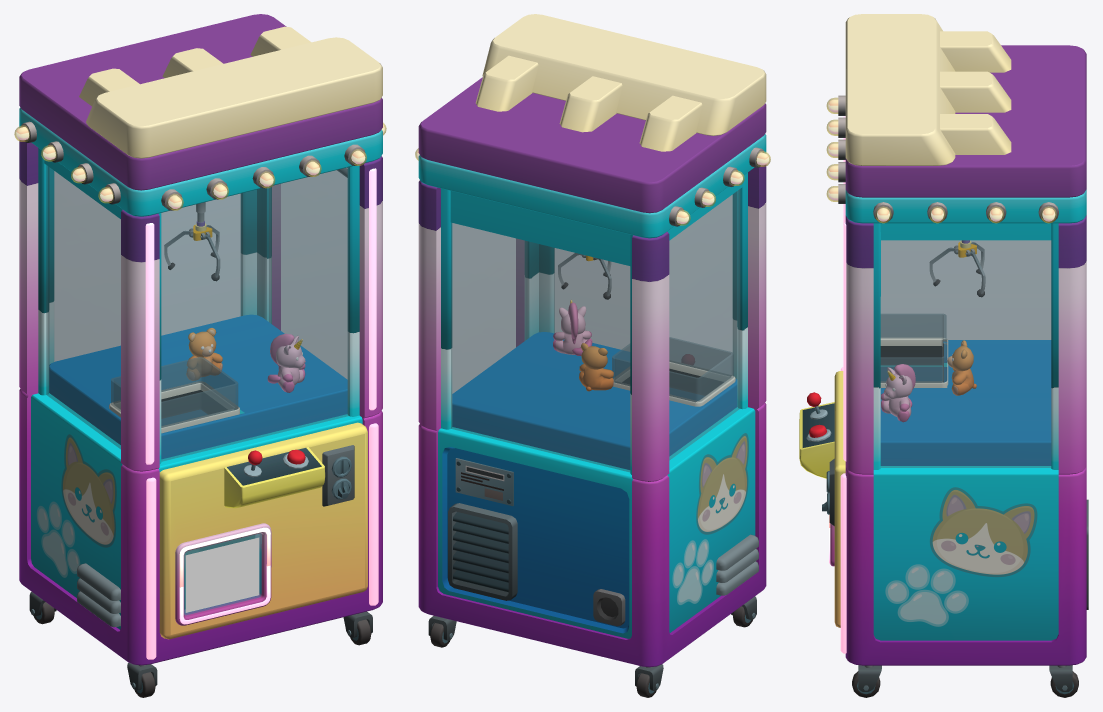
Rendered from Claw_Machine.glb.
3 renders of one model, left to right at view 1: azimuth 30°, elevation 25°; view 2: azimuth 150°, elevation 25°; view 3: azimuth 270°, elevation 25°, orthographic. The views are drawn at different scales.
Visible parts, largest first — view 1: Toy_Claw_01, Cap_01, Lamps_01, Unicorn_01, Bear_01; view 2: Toy_Claw_01, Lamps_01, Unicorn_01, Bear_01; view 3: Toy_Claw_01, Lamps_01, Unicorn_01, Bear_01, Wheel_Base_01, Wheel_Base_01.003.
Boxes of the visible parts, <box> form: Toy_Claw_01: <box>19,14,382,665</box>; Cap_01: <box>184,533,261,615</box>; Lamps_01: <box>14,121,386,210</box>; Unicorn_01: <box>267,333,305,392</box>; Bear_01: <box>187,328,222,380</box>; Toy_Claw_01: <box>418,14,766,667</box>; Lamps_01: <box>415,147,770,226</box>; Unicorn_01: <box>553,300,592,355</box>; Bear_01: <box>579,343,613,391</box>; Toy_Claw_01: <box>799,14,1088,665</box>; Lamps_01: <box>826,95,1058,223</box>; Unicorn_01: <box>881,364,915,422</box>; Bear_01: <box>947,340,976,395</box>; Wheel_Base_01: <box>858,665,881,691</box>; Wheel_Base_01.003: <box>1049,665,1072,691</box>.
Bounding box in the file's own units: 1.35 × 2.61 × 1.2.
Materials: 11 (9 with a texture image).
